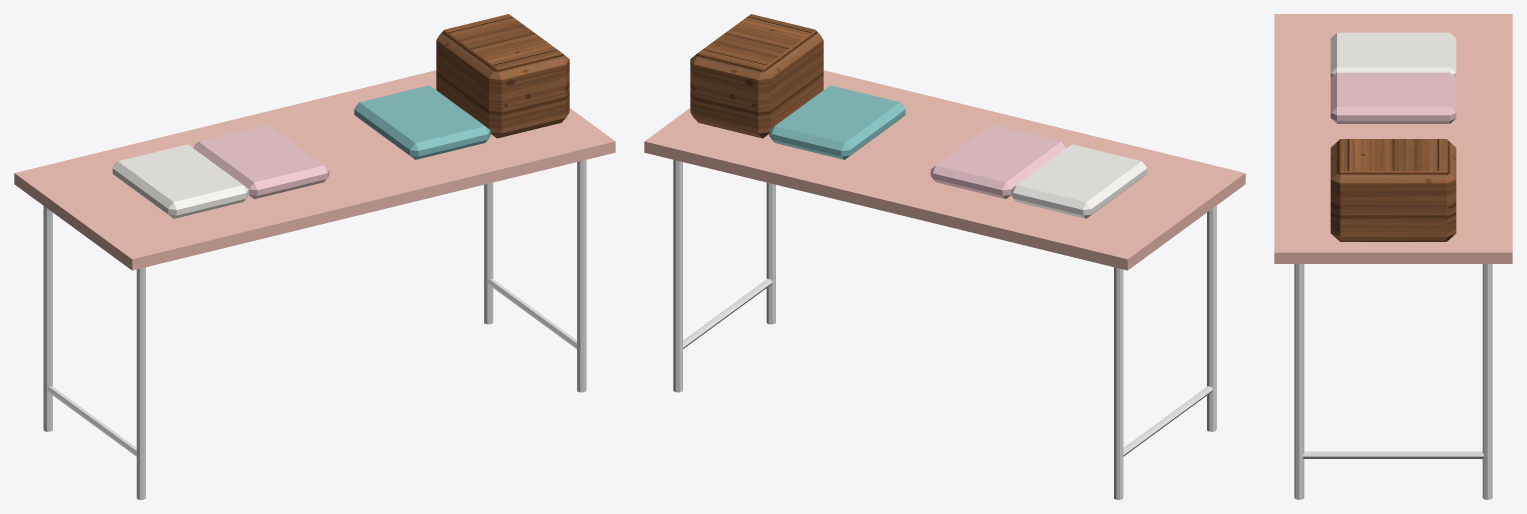
Rendered from folding_table.glb.
3 views of the same model, side by side, from view 1: azimuth 30°, elevation 25°; view 2: azimuth 150°, elevation 25°; view 3: azimuth 270°, elevation 25° (orthographic).
Visible parts, largest first — view 1: folding_table_formica, folding_table_teak, folding_table_chrome, folding_table_fabric_t, folding_table_bed_w, folding_table_bed_p; view 2: folding_table_formica, folding_table_teak, folding_table_chrome, folding_table_fabric_t, folding_table_bed_w, folding_table_bed_p; view 3: folding_table_formica, folding_table_teak, folding_table_chrome, folding_table_bed_p, folding_table_bed_w.
Boxes of the visible parts, bbox=[...] form: folding_table_formica: bbox=[14, 70, 615, 270]; folding_table_teak: bbox=[436, 14, 569, 138]; folding_table_chrome: bbox=[43, 160, 586, 499]; folding_table_fabric_t: bbox=[354, 85, 490, 159]; folding_table_bed_w: bbox=[112, 144, 248, 218]; folding_table_bed_p: bbox=[193, 124, 329, 199]; folding_table_formica: bbox=[644, 70, 1245, 270]; folding_table_teak: bbox=[690, 14, 823, 138]; folding_table_chrome: bbox=[673, 160, 1216, 499]; folding_table_fabric_t: bbox=[769, 85, 905, 159]; folding_table_bed_w: bbox=[1011, 144, 1147, 218]; folding_table_bed_p: bbox=[930, 124, 1066, 199]; folding_table_formica: bbox=[1274, 14, 1512, 263]; folding_table_teak: bbox=[1330, 139, 1456, 241]; folding_table_chrome: bbox=[1294, 264, 1492, 499]; folding_table_bed_p: bbox=[1330, 72, 1456, 123]; folding_table_bed_w: bbox=[1330, 32, 1456, 77].
Bounding box in the file's own units: 1.8 × 1.15 × 0.76.
6 materials, 1 textured.
